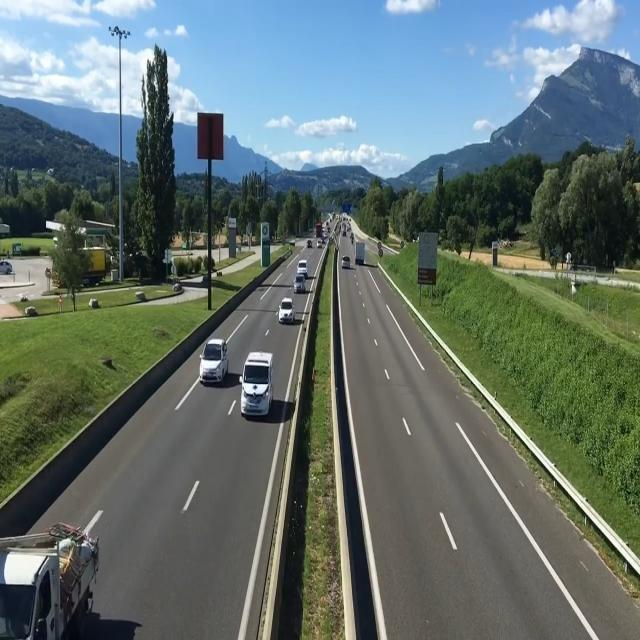Car: (198, 337, 231, 386), (277, 297, 295, 323), (292, 275, 306, 294), (341, 255, 351, 270)
Truck: (0, 519, 101, 640), (353, 240, 367, 268)
Van: (238, 350, 274, 419), (295, 259, 308, 278)
